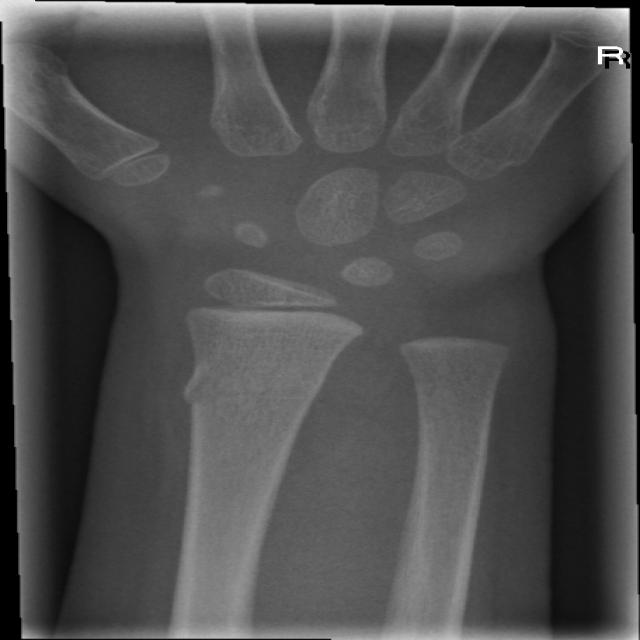radius fracture: (151, 344, 361, 461)
